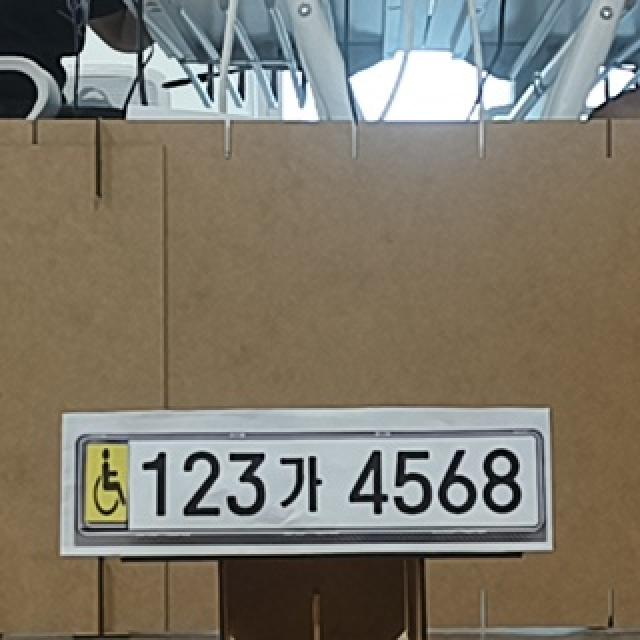disabled: (84, 443, 130, 522)
plate: (78, 436, 548, 540)
